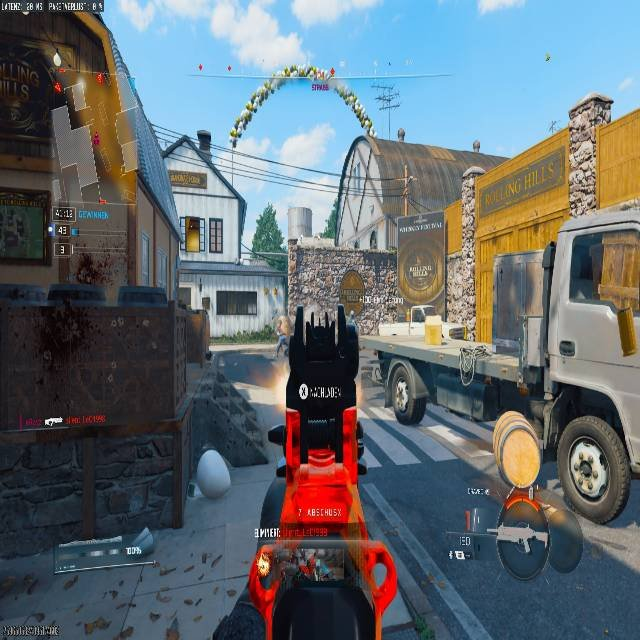player: (272, 311, 288, 356)
